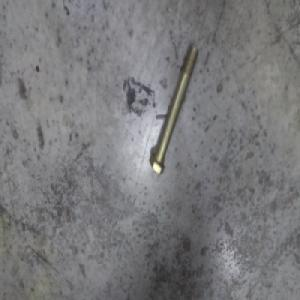Bolt: (151, 43, 201, 174)
